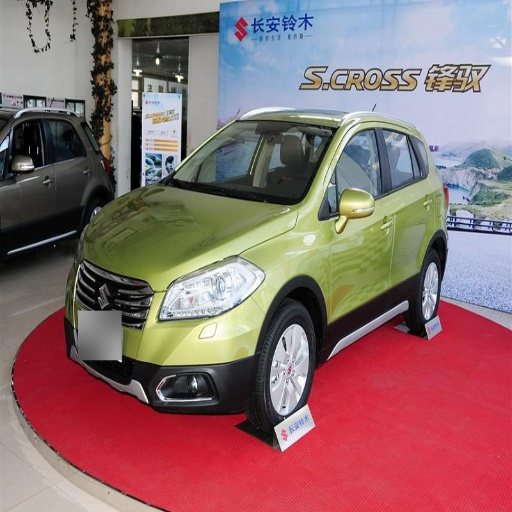front_bumper: (66, 262, 268, 418)
front_glass: (167, 120, 336, 204)
front_left_door: (322, 122, 394, 323), (7, 118, 55, 197)
